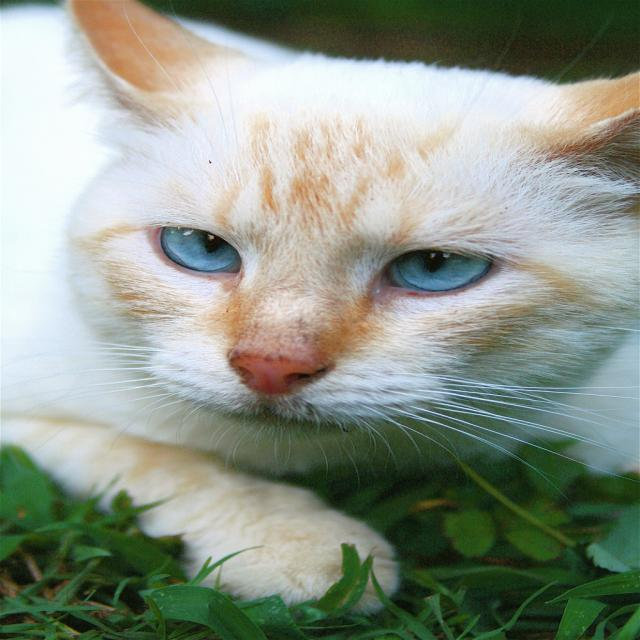cat: (3, 2, 639, 619)
